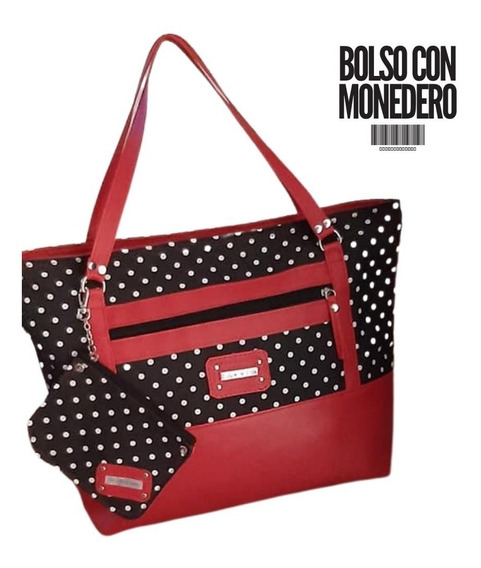cartera: (19, 34, 407, 538)
